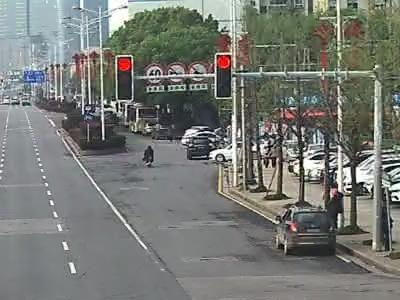red: (211, 50, 237, 71), (115, 55, 139, 73)
